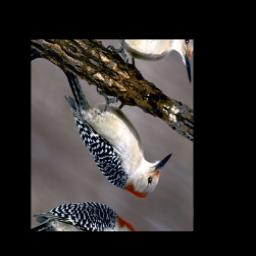Woodpecker: (50, 64, 178, 213)
